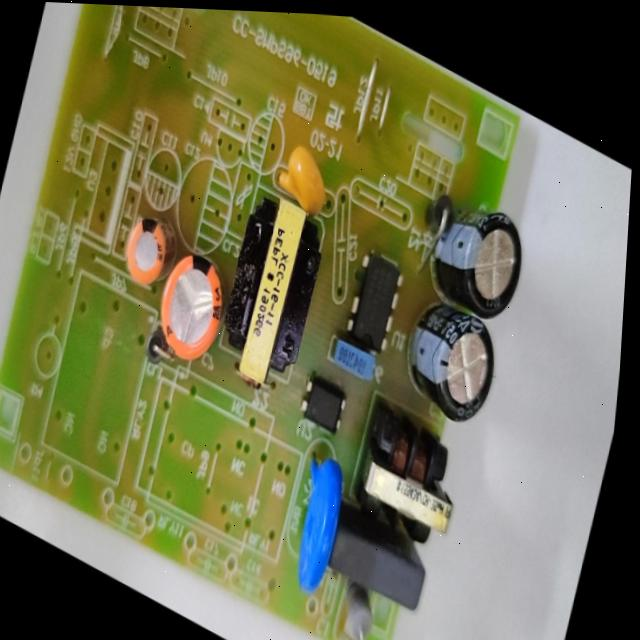Cap1: (146, 229, 238, 378)
Cap2: (115, 195, 176, 299)
Cap3: (390, 283, 516, 446)
Cap4: (414, 168, 543, 340)
MOSFET: (339, 235, 411, 360)
Mov: (278, 434, 357, 606)
Resistor: (328, 572, 387, 640)
Transformer: (206, 172, 336, 407), (347, 387, 477, 565)
